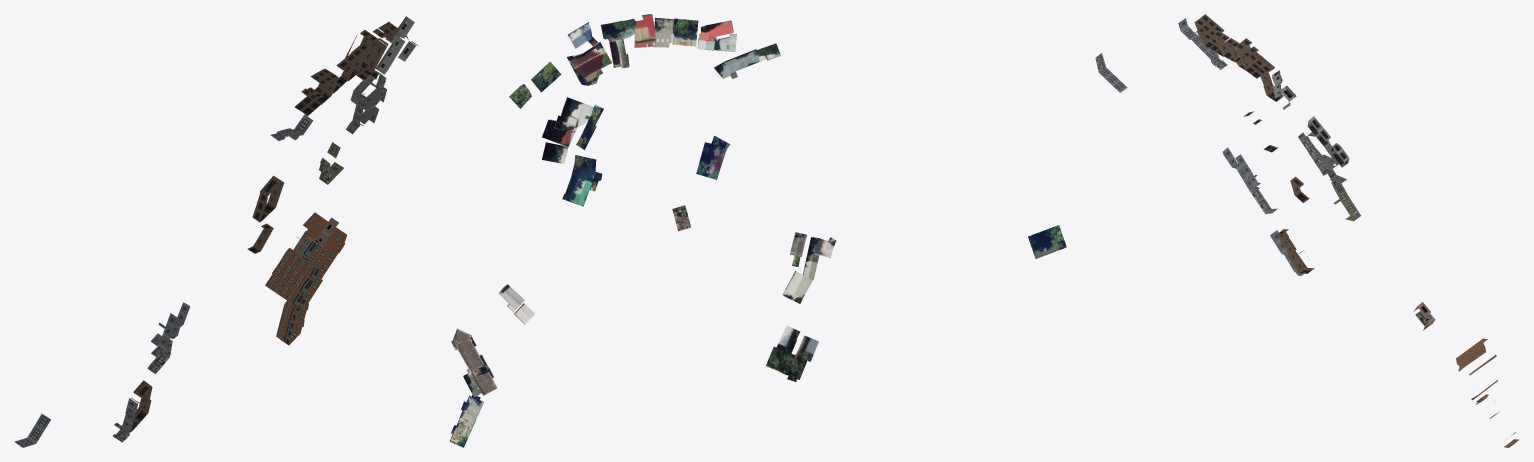
Rendered from tile_LOD8_r6_c5.glb.
3 views of the same model, side by side, from view 1: azimuth 30°, elevation 25°; view 2: azimuth 150°, elevation 25°; view 3: azimuth 270°, elevation 25° (orthographic). The views are drawn at different scales.
Size of the model in its own units: 249 by 192 by 197.
57 materials, 57 textured.
